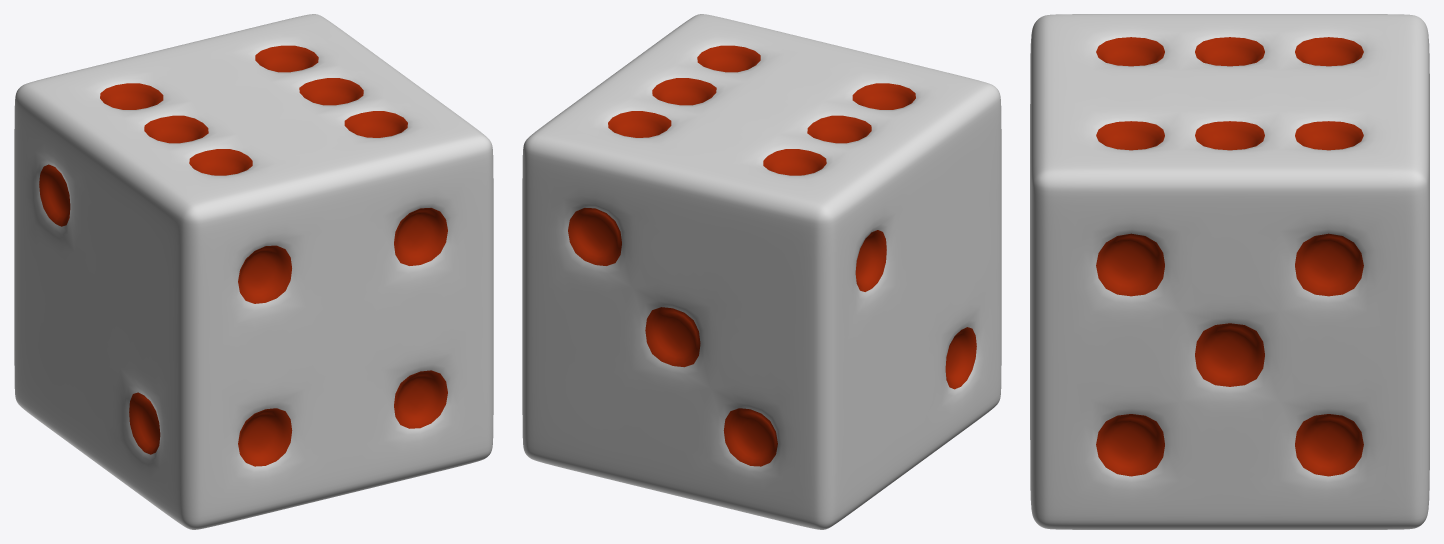
Rendered from dice.fbx.
3 views of the same model, side by side, from view 1: azimuth 30°, elevation 25°; view 2: azimuth 150°, elevation 25°; view 3: azimuth 270°, elevation 25° (orthographic). The views are drawn at different scales.
Parts seen in each view (by area): view 1: Cube; view 2: Cube; view 3: Cube.
Boxes of the visible parts, bbox=[...] form: Cube: bbox=[14, 14, 493, 529]; Cube: bbox=[522, 14, 1001, 529]; Cube: bbox=[1030, 14, 1429, 529].
Bounding box in the file's own units: 6 × 6 × 6.
